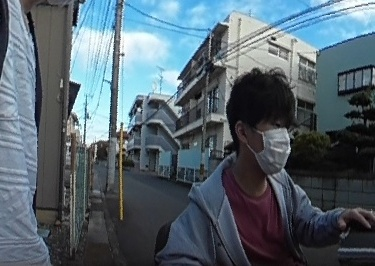person: (179, 74, 320, 266)
